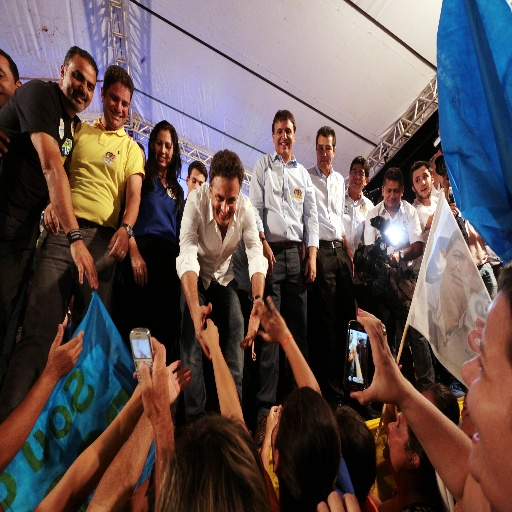hand: (361, 319, 421, 431), (130, 336, 168, 428), (46, 319, 85, 385), (251, 294, 288, 342), (69, 238, 100, 292), (190, 300, 213, 361), (239, 296, 265, 348), (166, 358, 192, 408), (261, 401, 283, 450), (194, 315, 221, 352), (316, 490, 361, 511), (128, 247, 149, 291), (107, 225, 133, 260), (42, 201, 60, 238), (262, 241, 276, 279), (304, 257, 317, 287), (0, 128, 12, 159), (346, 246, 355, 278), (389, 247, 400, 270), (436, 173, 449, 188), (449, 201, 457, 218)
